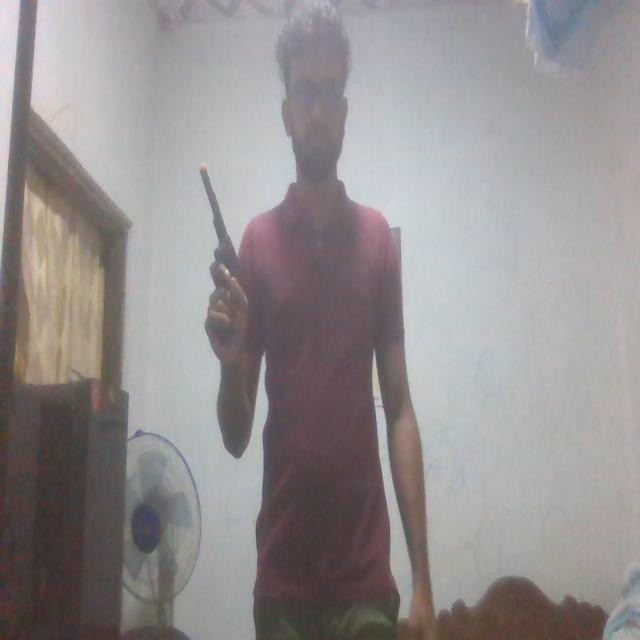Gun_Holder: (193, 163, 257, 333)
Person: (207, 7, 435, 640)
